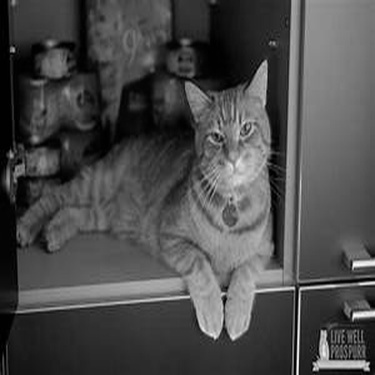cat: (15, 55, 277, 342)
